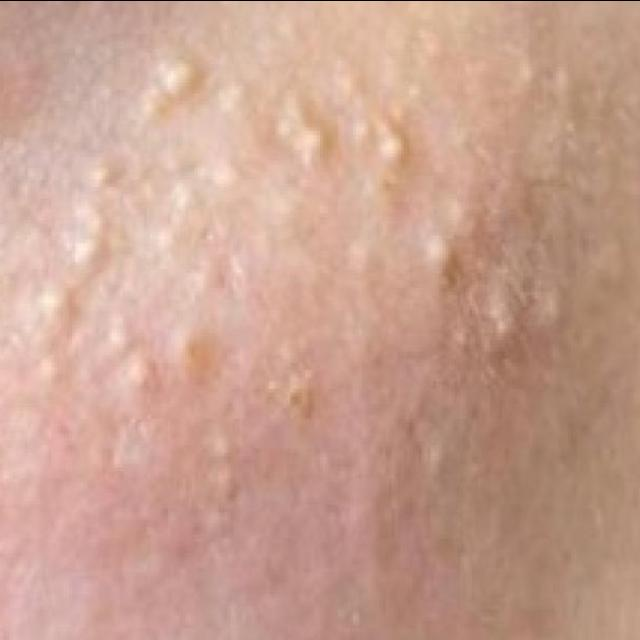whitehead: (43, 82, 501, 486)
